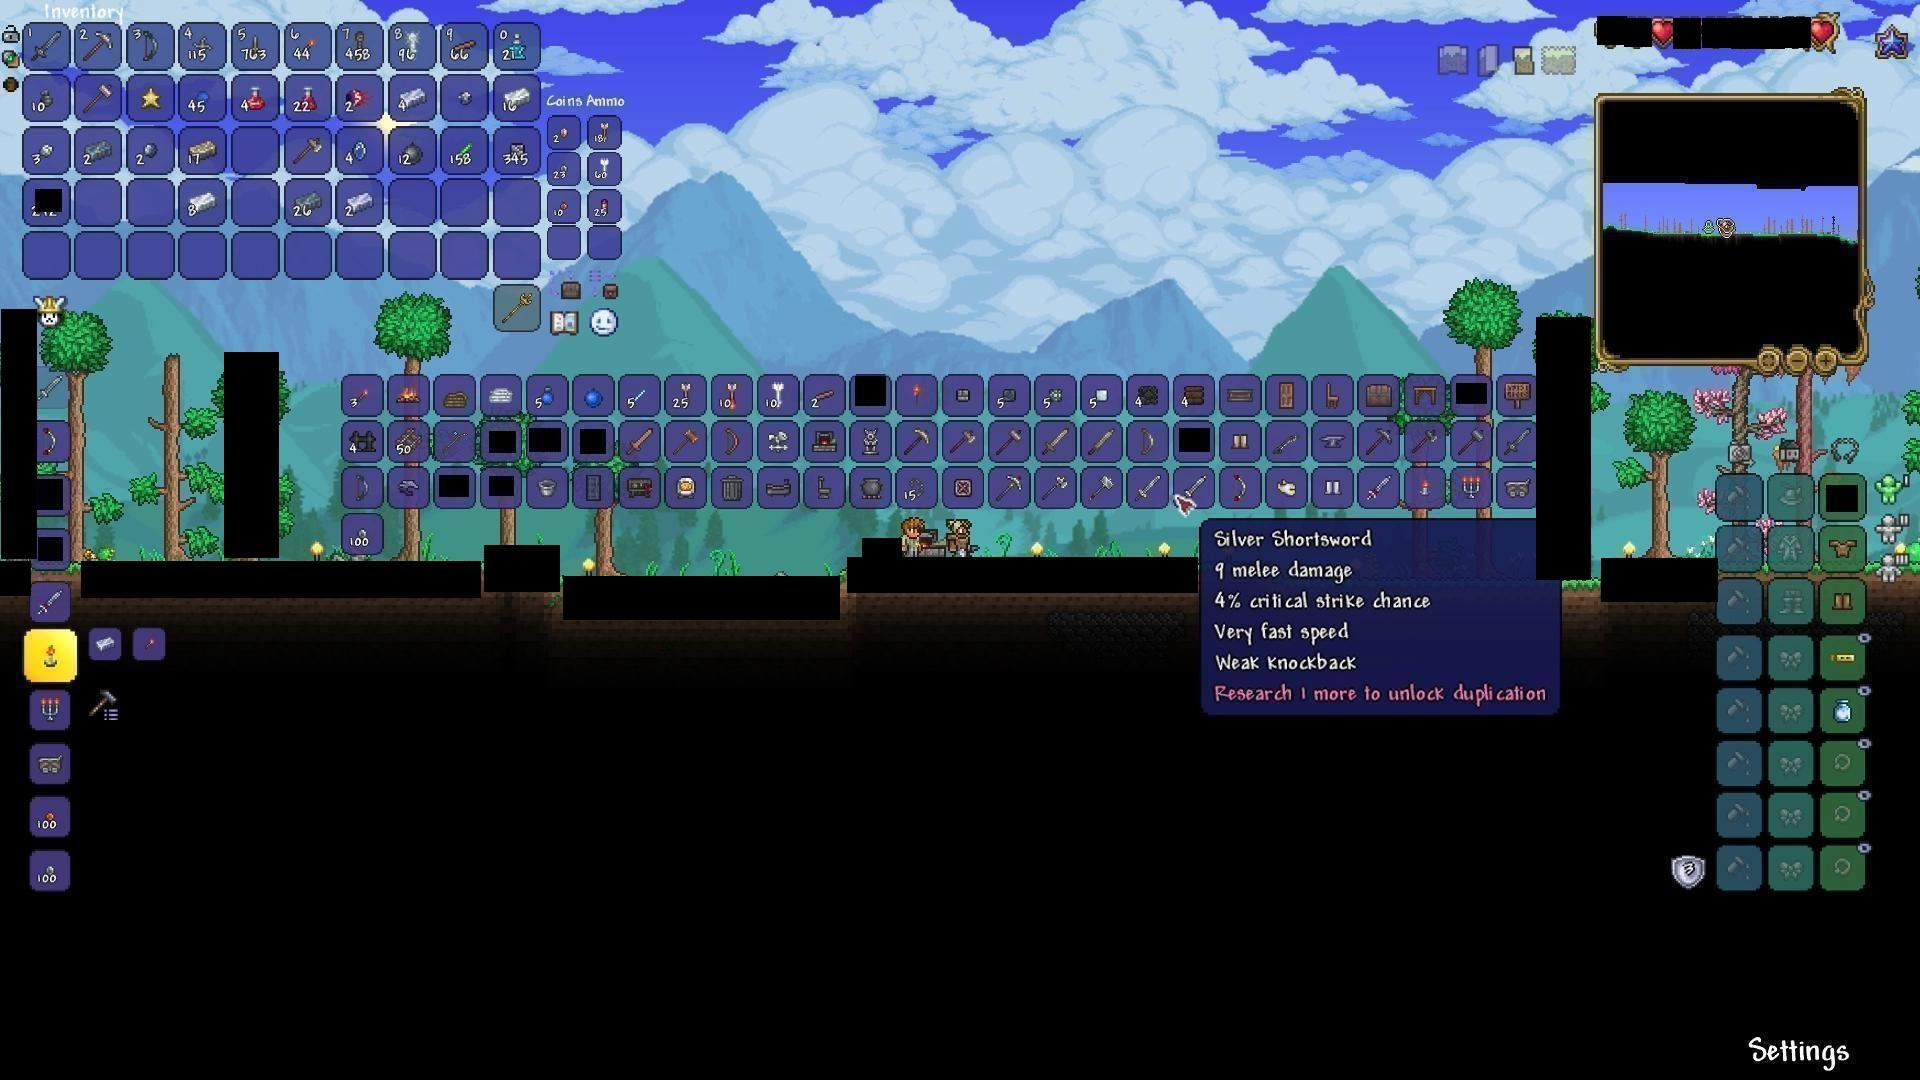breastplate: (1828, 539, 1857, 559)
heart: (1808, 15, 1837, 45), (1648, 18, 1675, 47)
legs: (1830, 589, 1858, 615), (1324, 473, 1348, 498)
tree: (65, 309, 113, 556), (1630, 388, 1692, 558), (154, 345, 194, 559)
